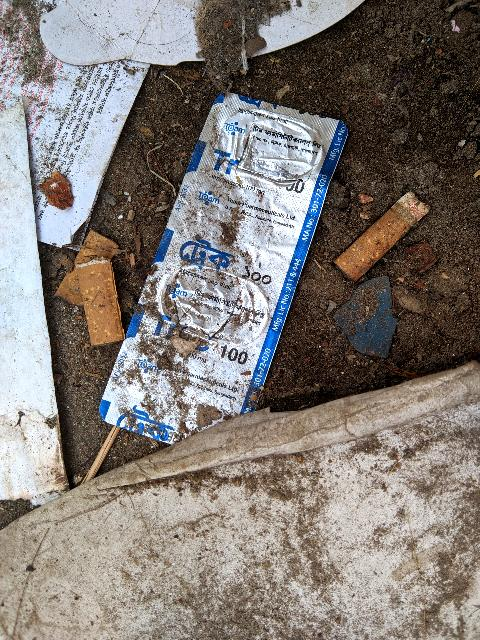medicine: (86, 65, 345, 459)
